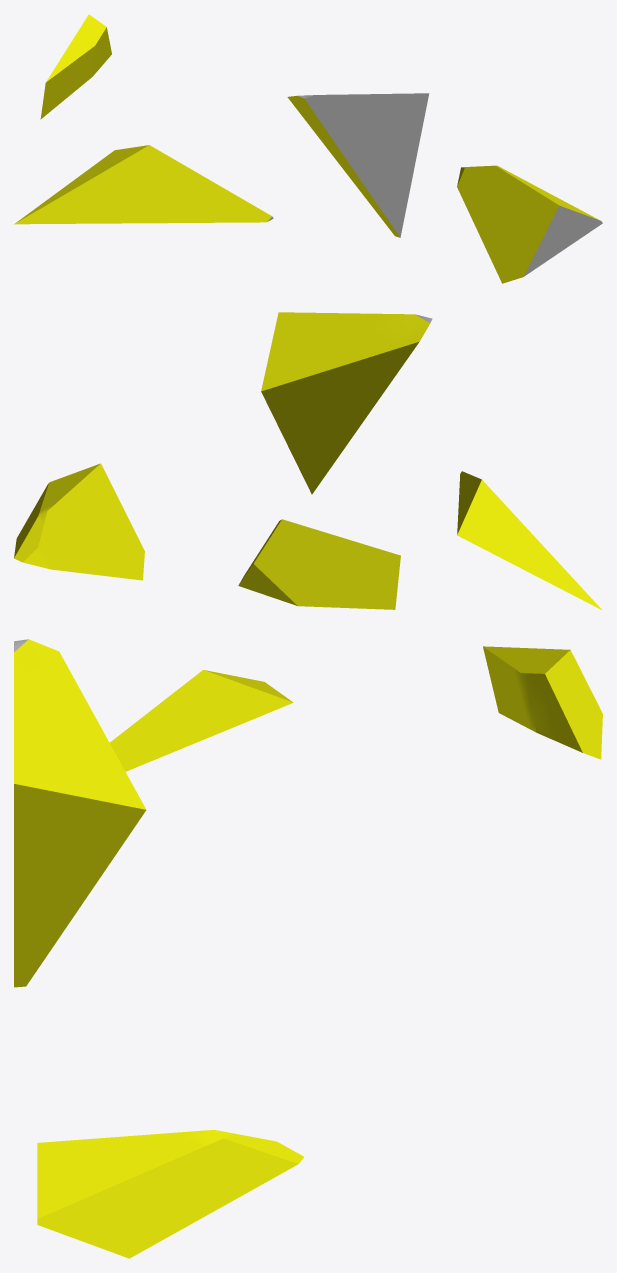
File: Shards.fbx
3 renders of one model, top to bottom at view 1: azimuth 30°, elevation 25°; view 2: azimuth 150°, elevation 25°; view 3: azimuth 270°, elevation 25°, orthographic. The views are drawn at different scales.
Visible parts, largest first — view 1: shard2, shard4, shard5, shard3; view 2: shard4, shard3, shard5, shard2; view 3: shard4, shard5, shard3, shard2.
Part boxes in pixels (x1,y1,x2,y2): shard2: (14, 145, 273, 224); shard4: (287, 93, 429, 237); shard5: (457, 165, 602, 283); shard3: (40, 14, 111, 119); shard4: (261, 312, 432, 494); shard3: (238, 519, 400, 609); shard5: (14, 463, 144, 580); shard2: (457, 471, 601, 609); shard4: (14, 639, 146, 987); shard5: (37, 1129, 303, 1258); shard3: (483, 646, 602, 759); shard2: (110, 670, 293, 771).
Bounding box in the file's own units: 6.85 × 3.17 × 4.07.
